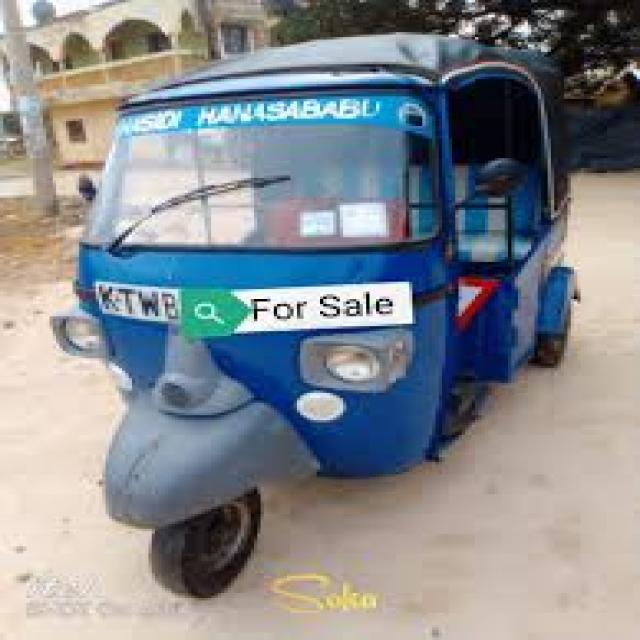tuktuk: (27, 20, 610, 626)
